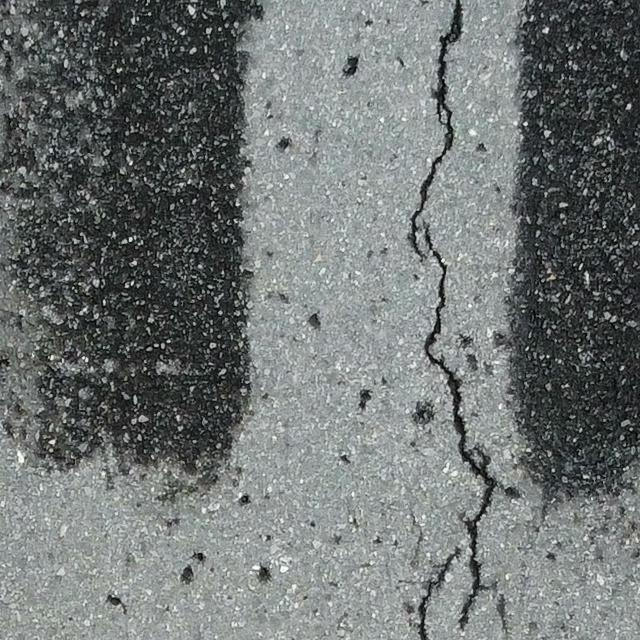LongitudinalCrack: (409, 1, 511, 640)
